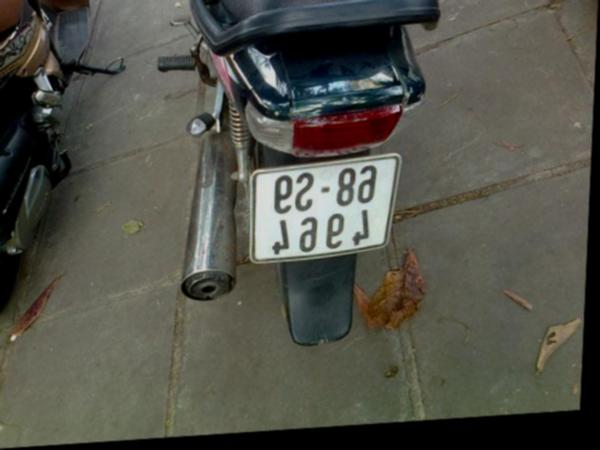License_Plate: (247, 154, 397, 264)
